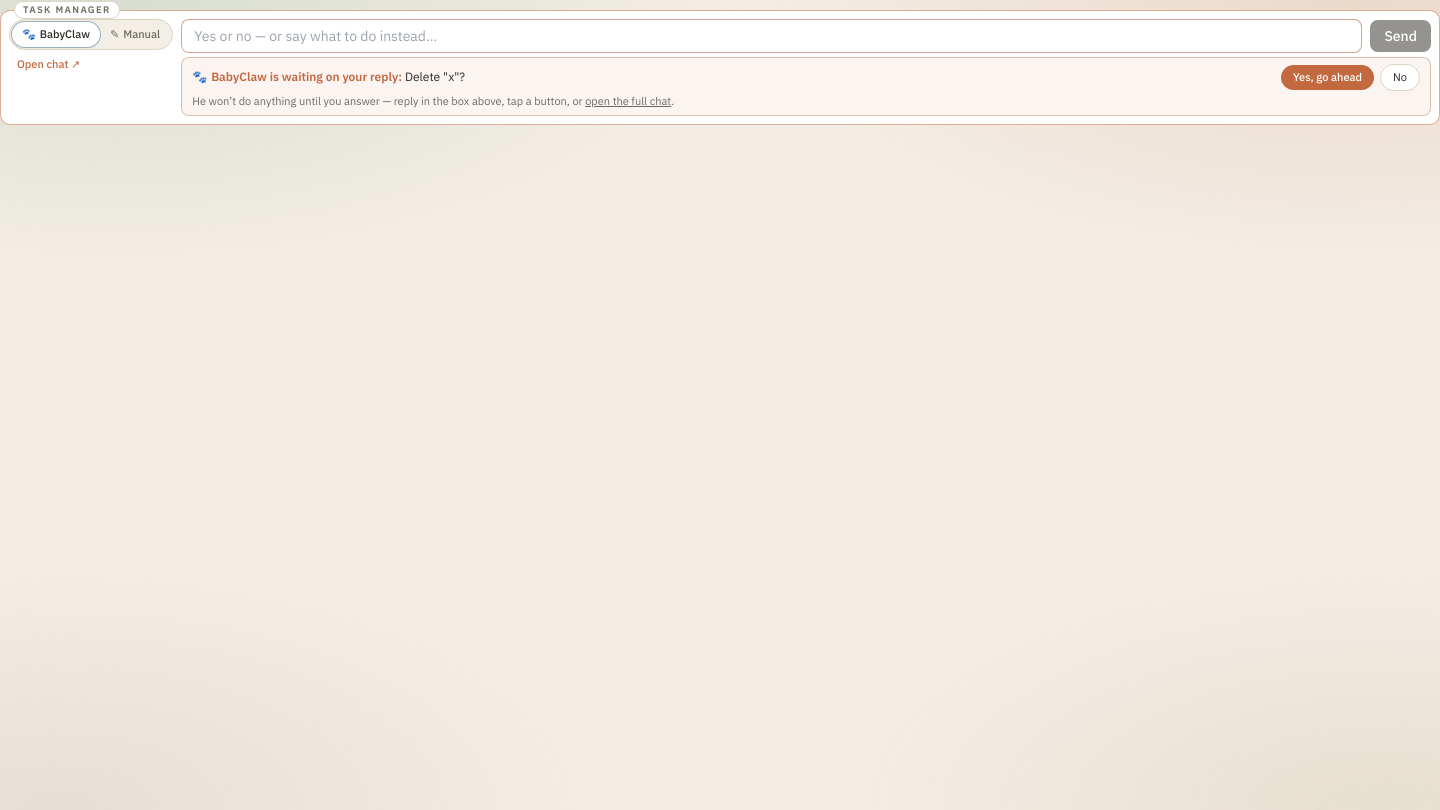
Test case: TaskInputWidget › switching to Manual while BabyClaw waits dots his tab so the state stays visible
The image size is (1440, 810).
Click the button "✎ Manual" at (135, 34), box 100,22 -> 170,46
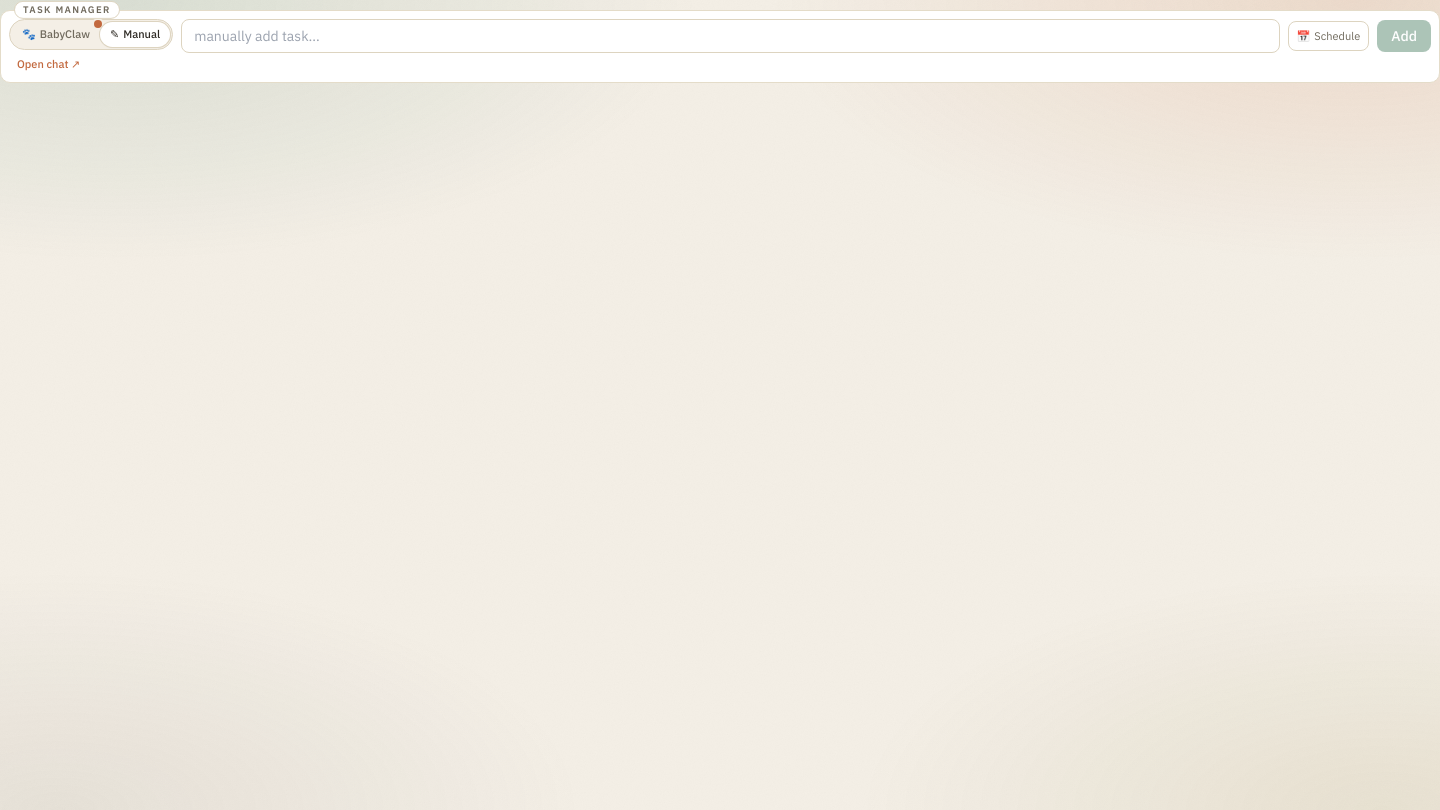
Now the text "waiting on your reply" is gone
